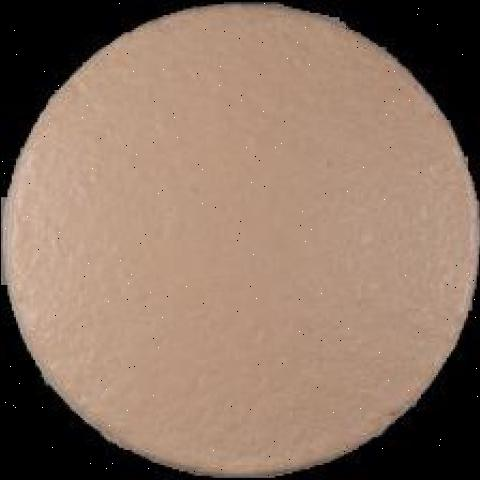Pill: (0, 14, 478, 474)
